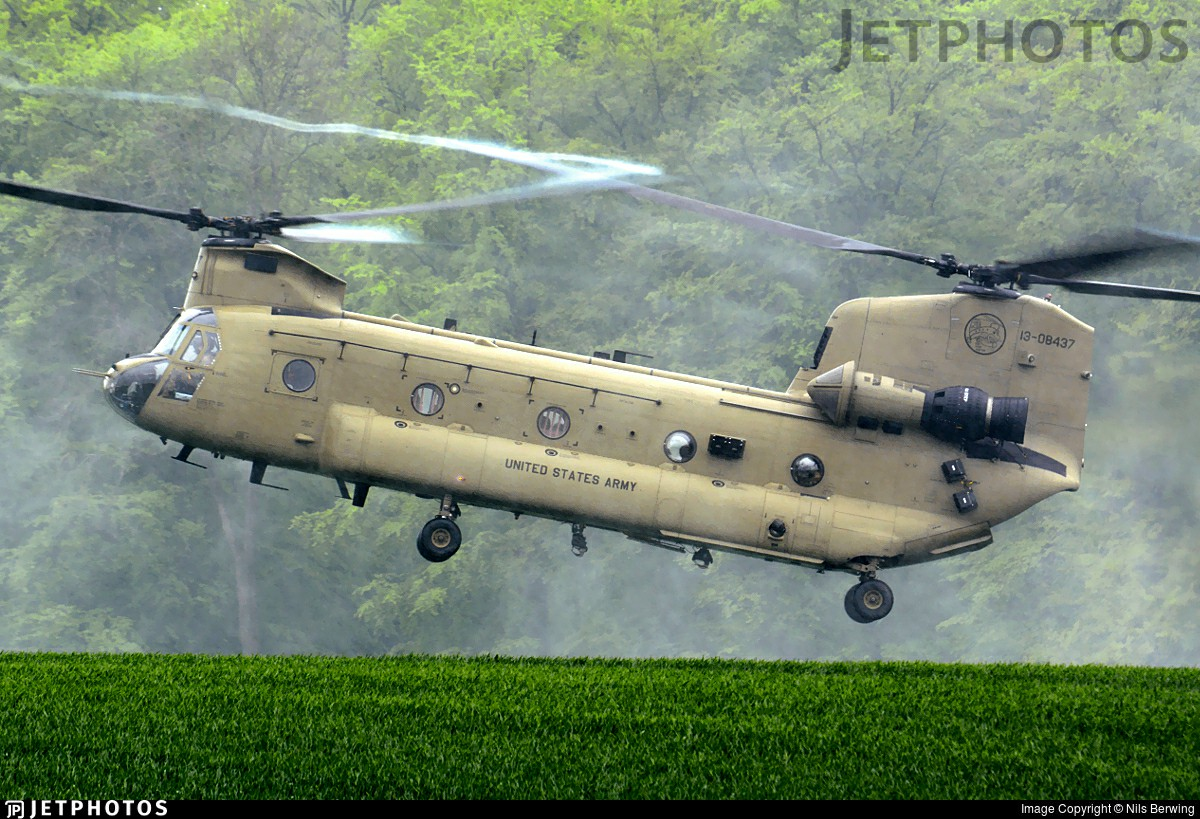chinook: (41, 176, 1190, 615)
